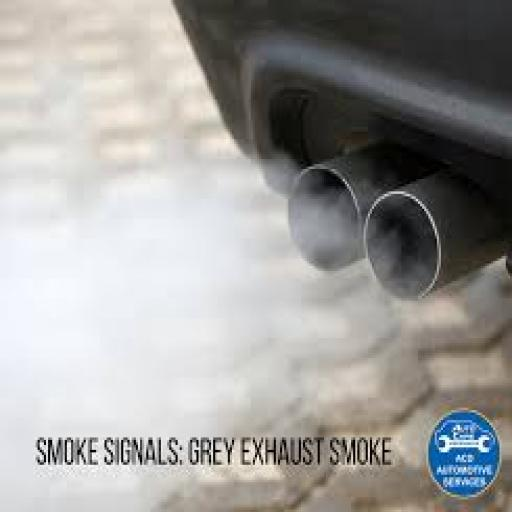smoke: (2, 159, 406, 435)
